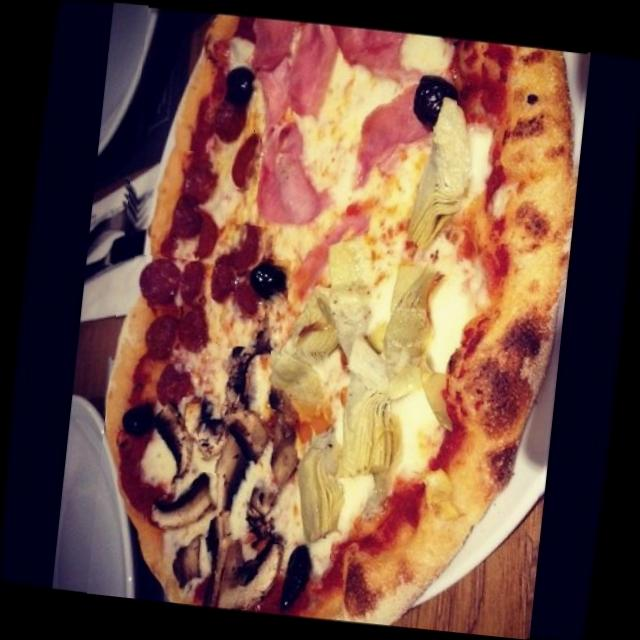Olive: (403, 66, 459, 138), (202, 58, 272, 114), (247, 256, 290, 304)
mushrooms: (212, 403, 300, 544), (180, 340, 270, 462), (136, 390, 205, 490), (208, 530, 286, 614), (144, 466, 225, 538)
pepperoni: (190, 220, 272, 317), (165, 149, 231, 253), (204, 101, 264, 190), (138, 300, 218, 362), (128, 253, 210, 313), (150, 357, 200, 417)
pizza: (106, 9, 580, 624)
